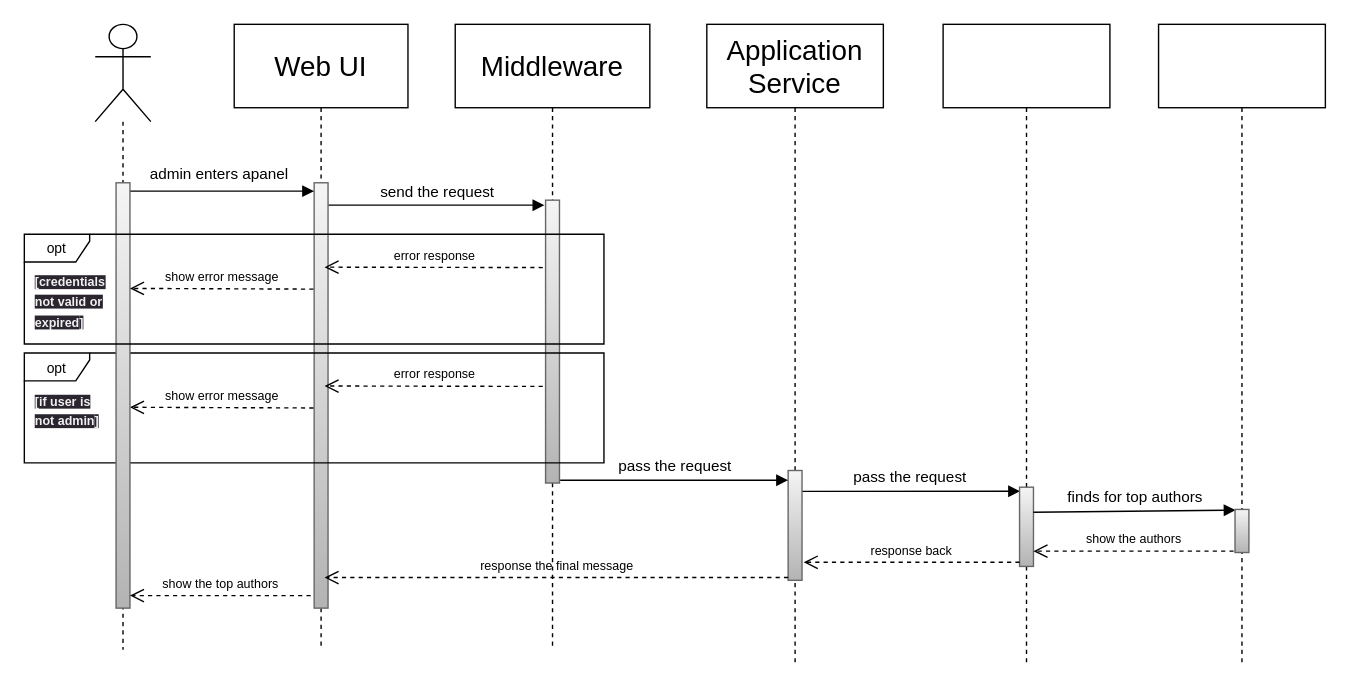
Image size: 1350x688. Some labels were removed from this diagram. Here are the shapes that lost their labels. From the top down, the box of each, then its label:
(942, 23, 1110, 664): Domain Service
(1157, 23, 1325, 664): Database
